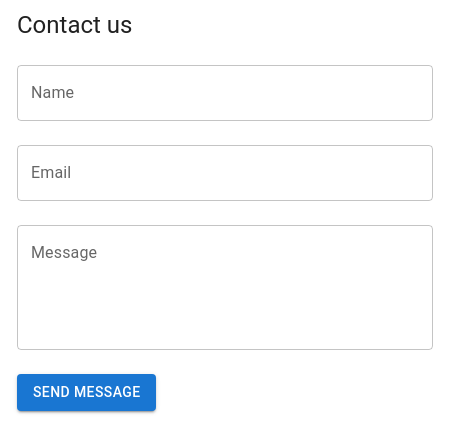
Test case: ContactForm › disables the submit button while the submission is in flight
This screenshot has width=450, height=431.
Type "Alice" into the field labelled "Name" at (225, 93), box [17,65,433,121]
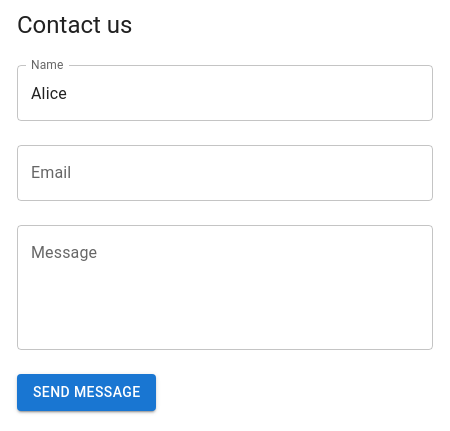
Type "alice@example.com" into the field labelled "Email" at (225, 173), box [17,145,433,201]
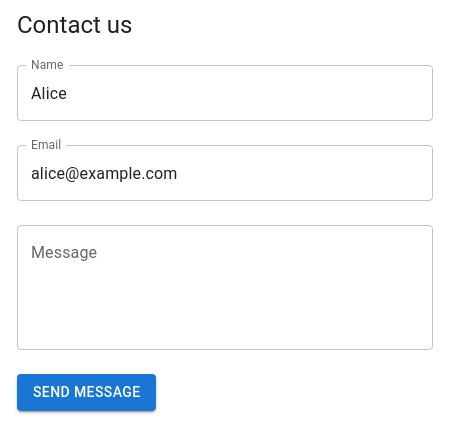
Type "Hello there" into the text box labelled "Message" at (225, 288), box [31,242,419,334]
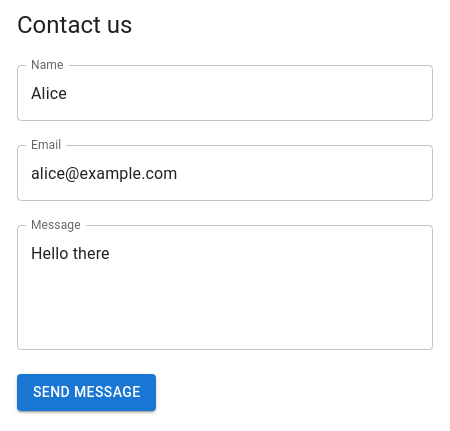
Click the button "Send message" at (87, 393), box [17,374,156,411]
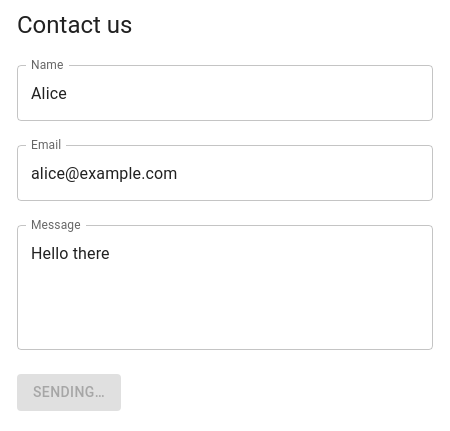
Check: the button "Sending…" is disabled, box [17,374,121,411]
